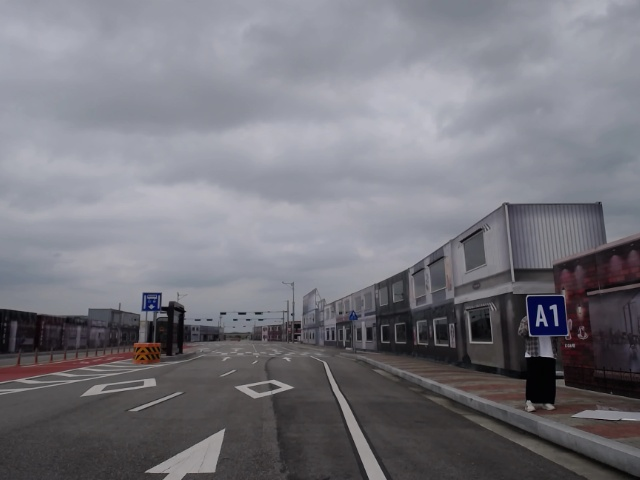delivery_a1: (526, 295, 569, 337)
